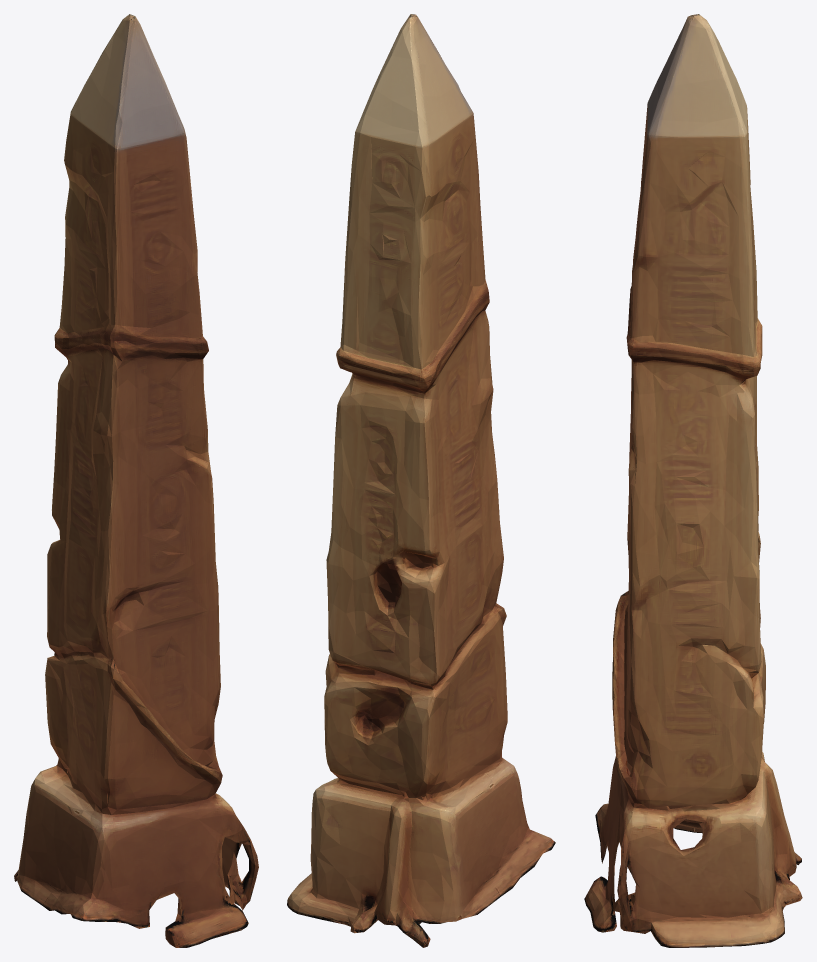
3 views of the same model, side by side, from view 1: azimuth 30°, elevation 25°; view 2: azimuth 150°, elevation 25°; view 3: azimuth 270°, elevation 25° (orthographic).
Visible parts, largest first — view 1: geometry_0; view 2: geometry_0; view 3: geometry_0.
Boxes of the visible parts, box(x1,y1,x2,y2) form: geometry_0: box(14, 14, 258, 947); geometry_0: box(287, 14, 555, 947); geometry_0: box(584, 14, 802, 947).
Bounding box in the file's own units: 0.2351 × 1 × 0.2235.
1 material, 1 textured.
